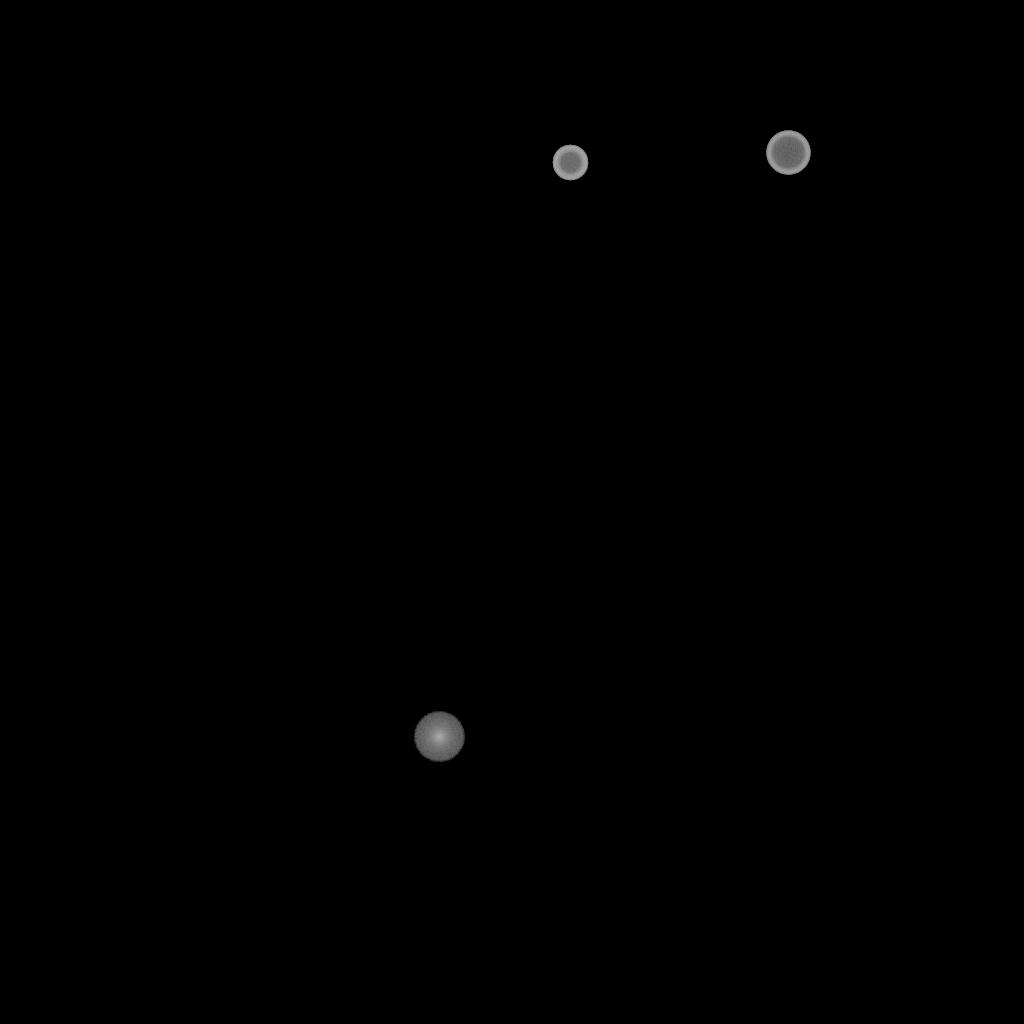depth:-60: (552, 145, 588, 181)
depth:-70: (766, 131, 810, 175)
depth:20: (413, 712, 465, 762)
